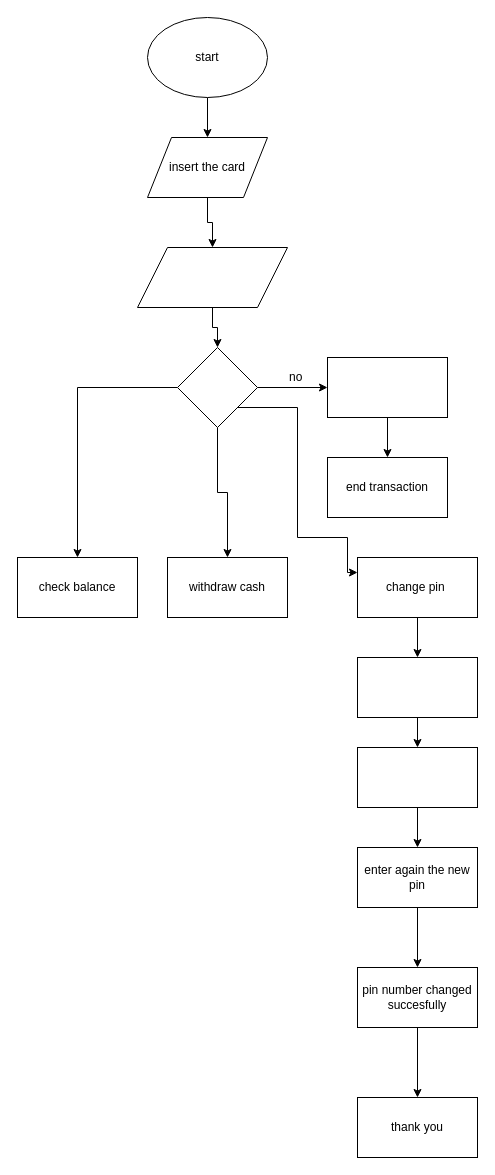
Image size: 495x1175. Some labels were removed from this diagram. Each missing label, with the centre of its shape:
"enter existing pin" goes at (x=417, y=687).
"enter new pin" goes at (x=417, y=777).
"enter the pin number" goes at (x=212, y=277).
"if pin is correct" goes at (x=217, y=387).
"invalid pin number" goes at (x=387, y=387).
